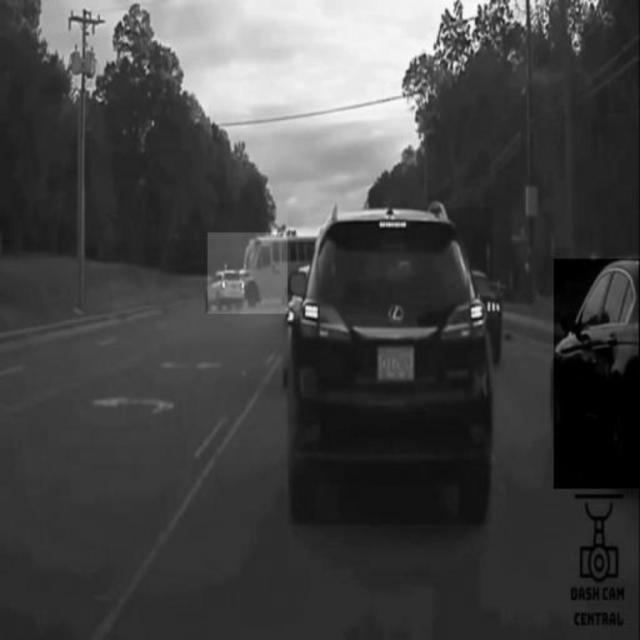accident: (208, 233, 318, 314)
vehicle: (287, 208, 492, 525), (554, 259, 640, 489)
